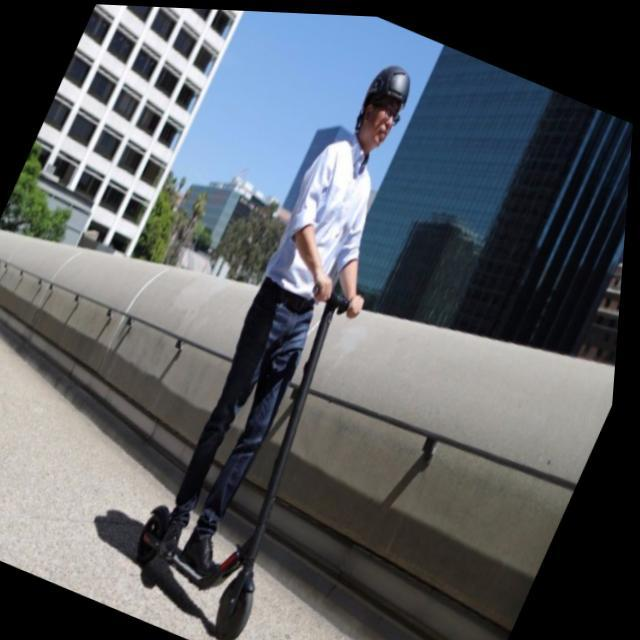Helmet: (349, 56, 417, 156)
